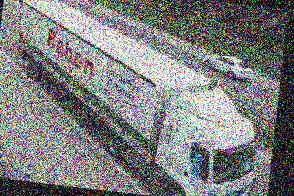truck: (1, 0, 273, 196)
